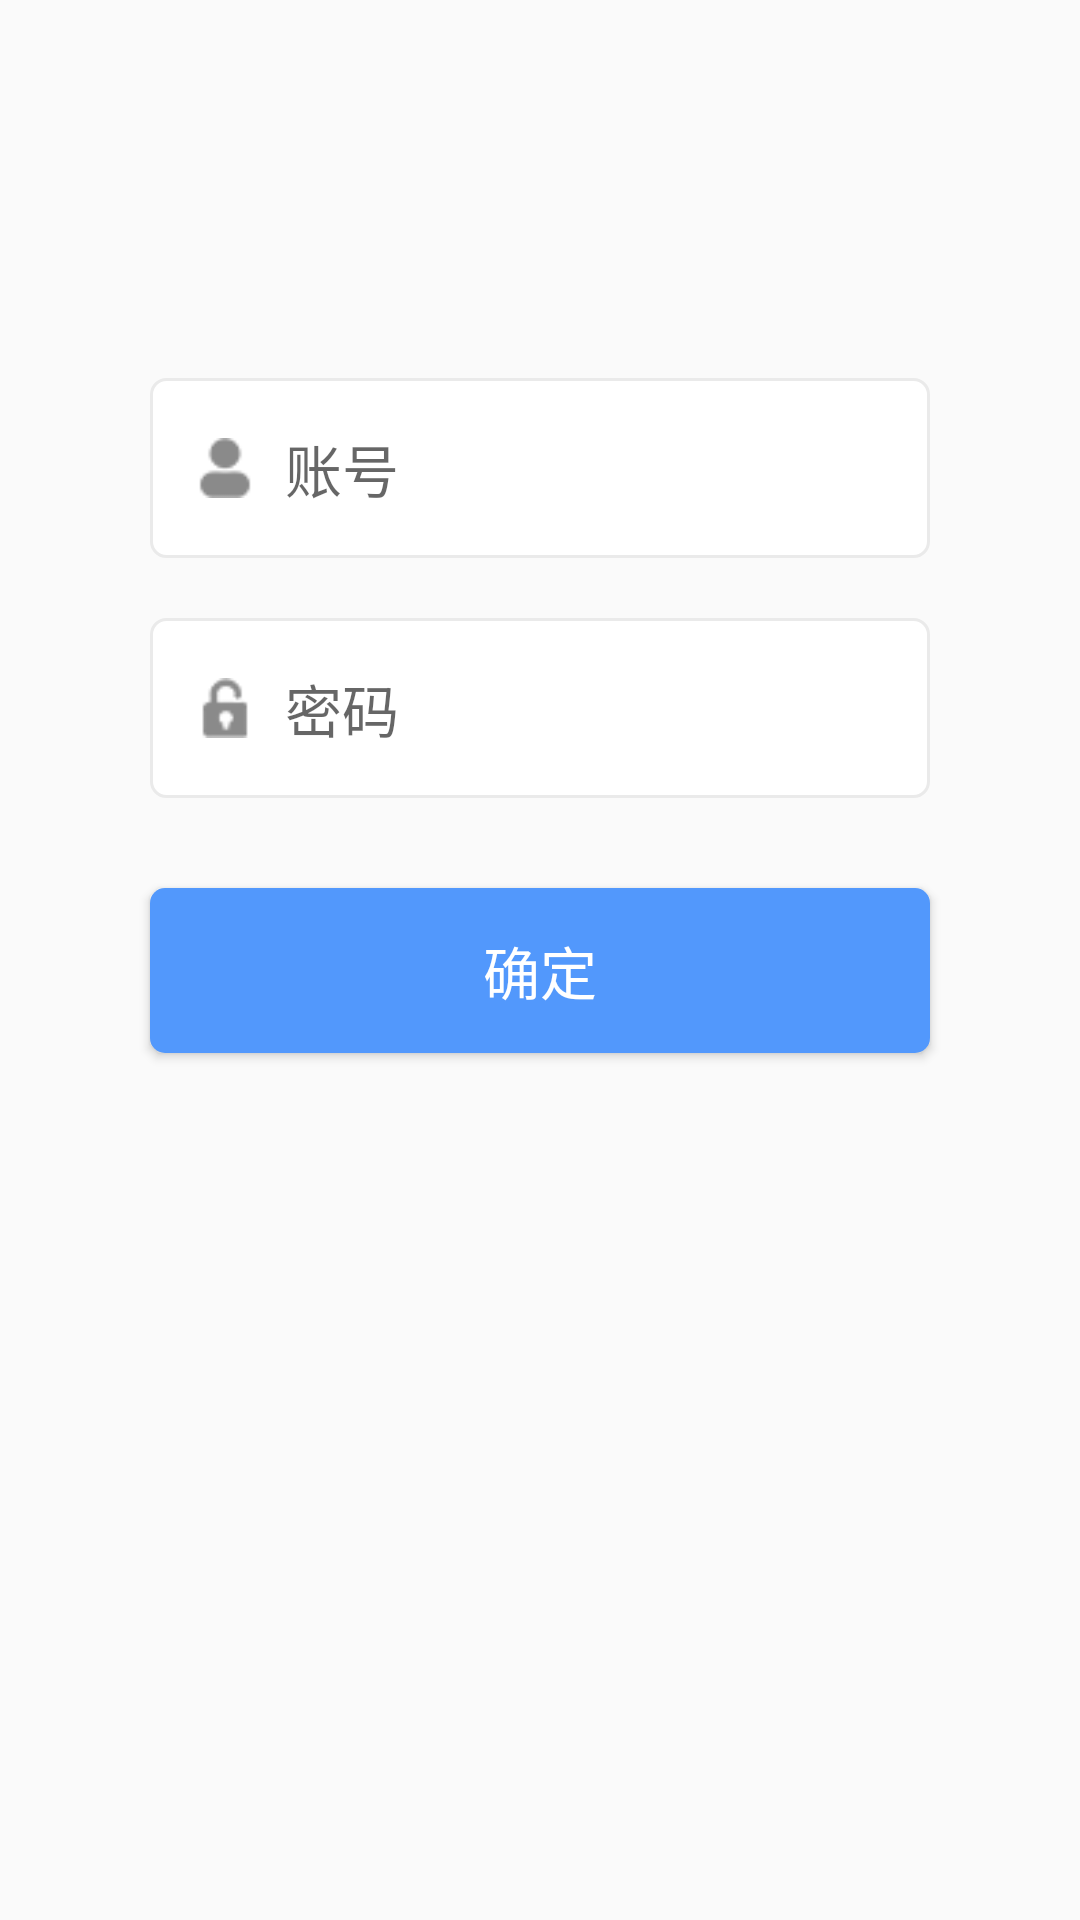

Locate icon controls on the screen. Image size 1080px x 1920px, boxes as (x1, y1, x2, y2).
password: (202, 678, 248, 738)
user: (200, 438, 250, 498)
